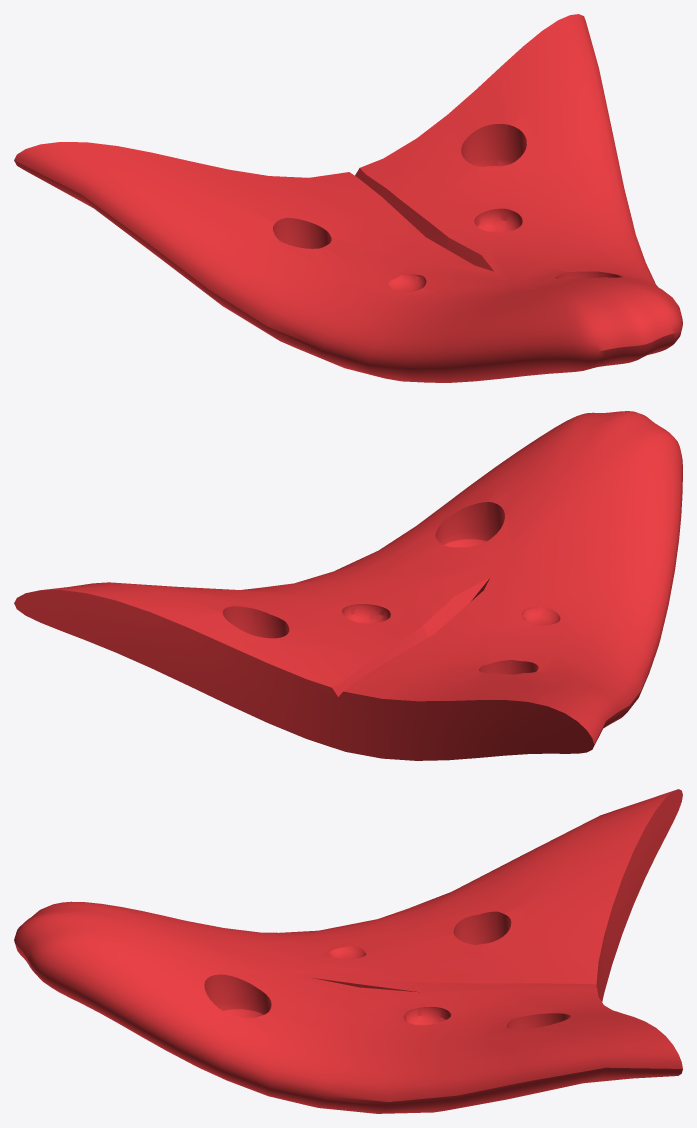
The model's file is FrogTongue.2024.08.21.fbx.
The picture shows the model from 3 angles, top to bottom: view 1: azimuth 30°, elevation 25°; view 2: azimuth 150°, elevation 25°; view 3: azimuth 270°, elevation 25°; orthographic projection. The views are drawn at different scales.
Visible parts, largest first — view 1: Cube; view 2: Cube; view 3: Cube.
Boxes of the visible parts, box(x1,y1,x2,y2) form: Cube: box(14, 14, 682, 382); Cube: box(14, 411, 682, 760); Cube: box(14, 789, 682, 1113).
Bounding box in the file's own units: 192 × 46.98 × 198.
